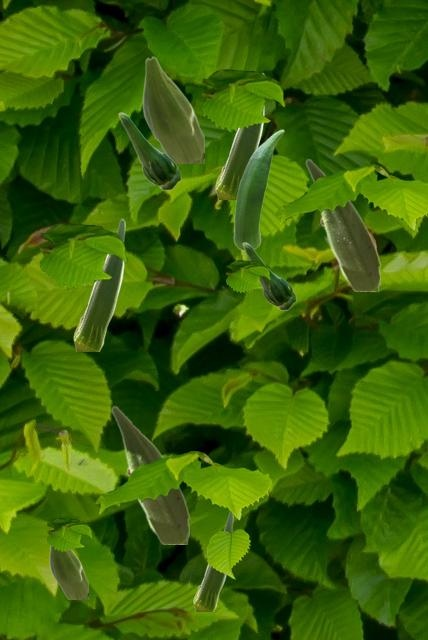okra: (111, 405, 188, 543), (305, 158, 379, 290), (73, 218, 124, 350), (142, 56, 203, 162), (215, 72, 264, 198), (233, 129, 283, 248), (118, 112, 180, 189), (193, 512, 232, 610), (242, 242, 295, 309), (49, 546, 87, 598)
